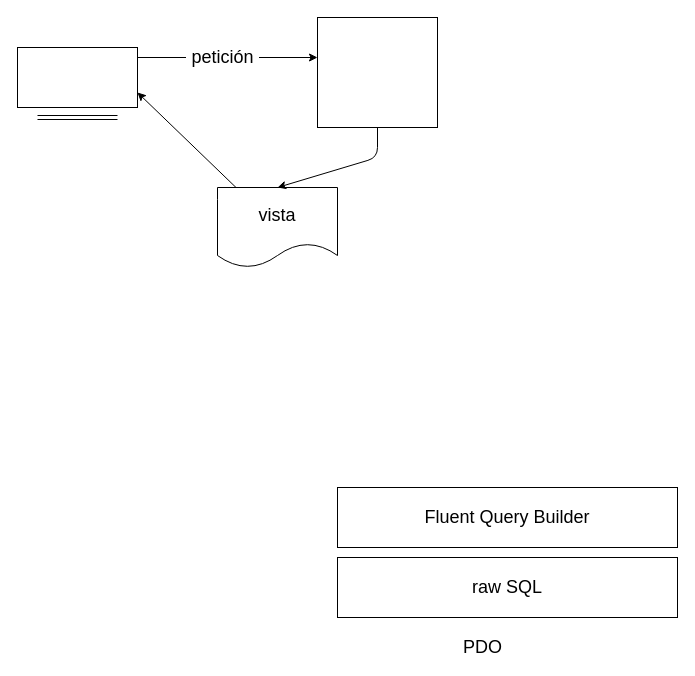
Some shapes in this 695 by 676 pixel diagram are drawn without their labels. The centre of each missing label's shape, as x and y in pixels:
"cliente" goes at (x=77, y=77).
"enrutador" goes at (x=377, y=72).
